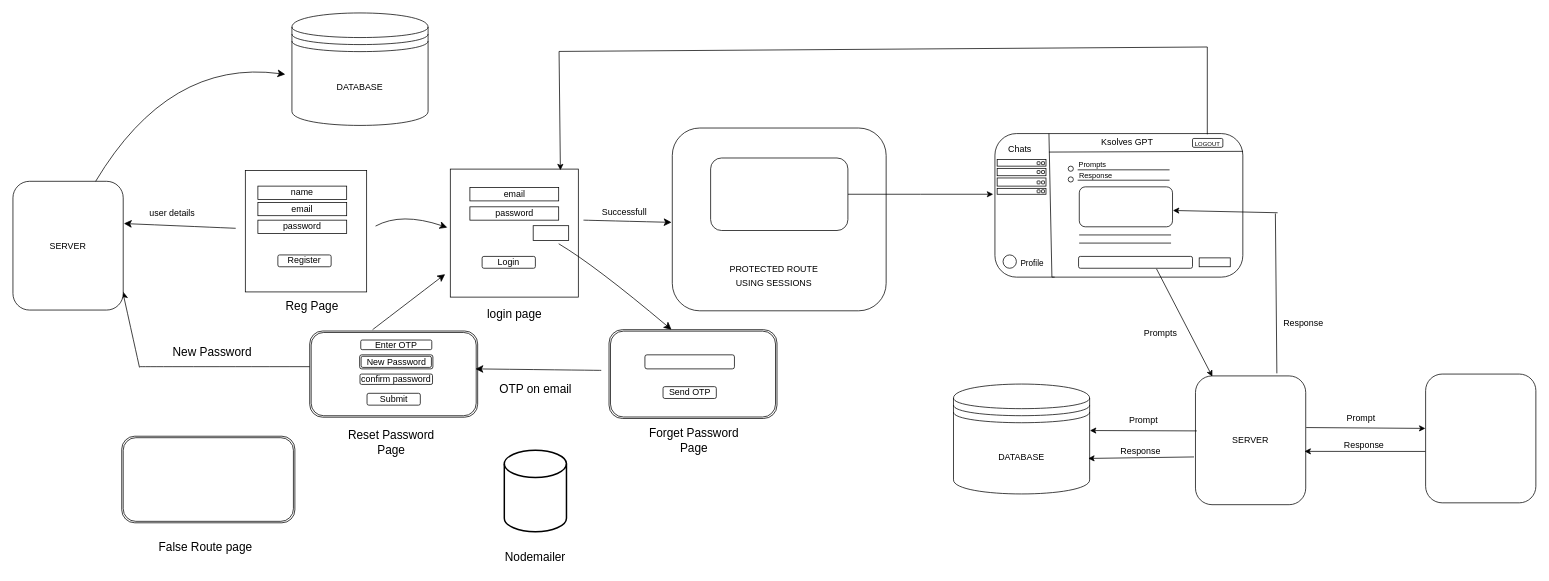
Some shapes in this 1549 by 581 pixel diagram are drawn without their labels. The centre of each missing label's shape, as x and y in pixels:
"404 page" belongs at (208,479).
"Code" belongs at (1126,206).
"Enter Email" belongs at (689,361).
"forget" belongs at (550,232).
"GPT APP" belongs at (779,194).
"OPEN AI API" belongs at (1480,438).
"Queries" belongs at (1135,262).
"search" belongs at (1214,262).
